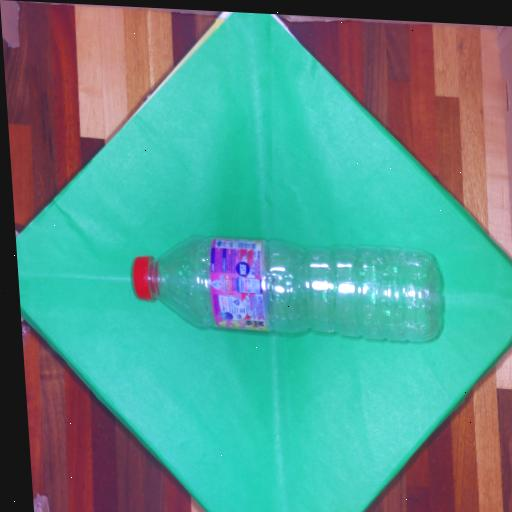bottle: (133, 236, 440, 341)
